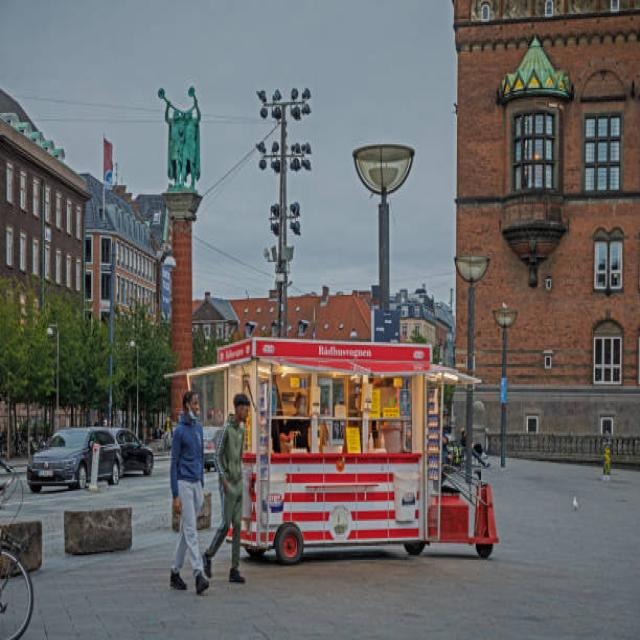Emperan: (183, 317, 509, 578)
